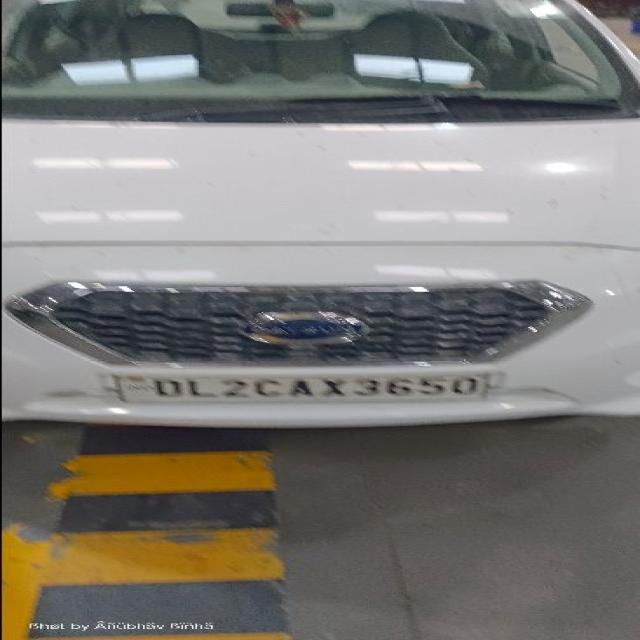license_plate: (5, 277, 595, 372), (101, 367, 504, 402)
